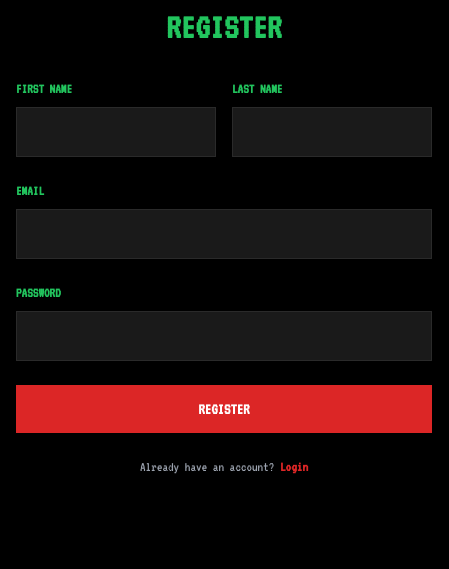
RegisterPage › shows error for missing uppercase
Type "John" into the field labelled "FIRST NAME" at (116, 132), box [16, 107, 216, 157]
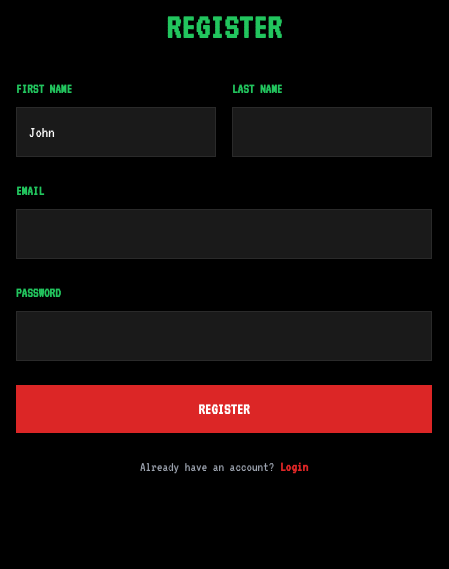
Type "Doe" into the field labelled "LAST NAME" at (332, 132), box [232, 107, 432, 157]
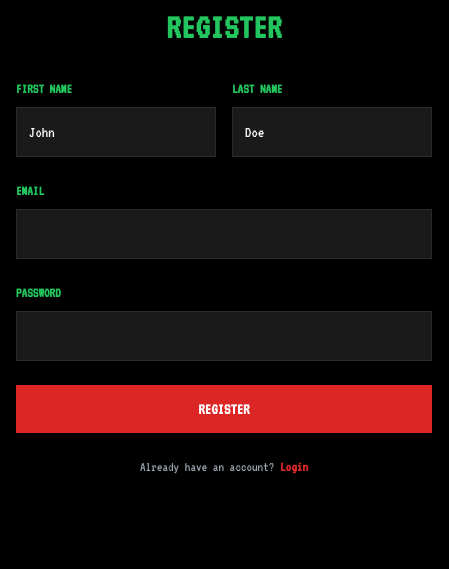
Type "john@example.com" into the field labelled "EMAIL" at (224, 234), box [16, 209, 432, 259]
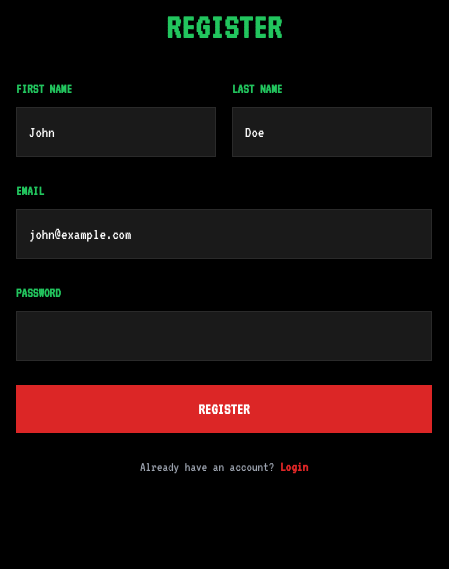
Type "password123!" into the password field labelled "PASSWORD" at (224, 336), box [16, 311, 432, 361]
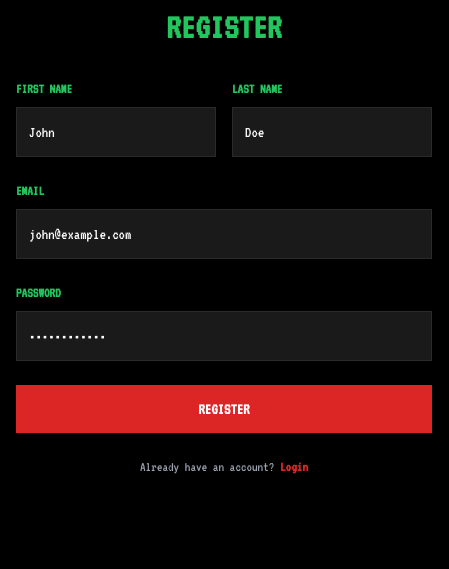
Click the button "REGISTER" at (224, 409), box [16, 385, 432, 433]
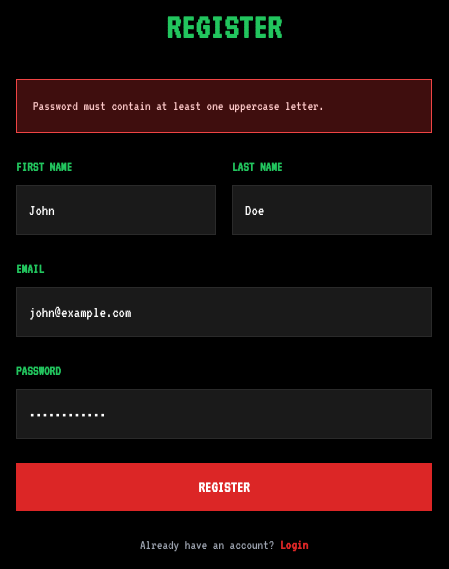
Check: the text "Password must contain at least one uppercase letter." is shown, box [16, 79, 432, 133]
